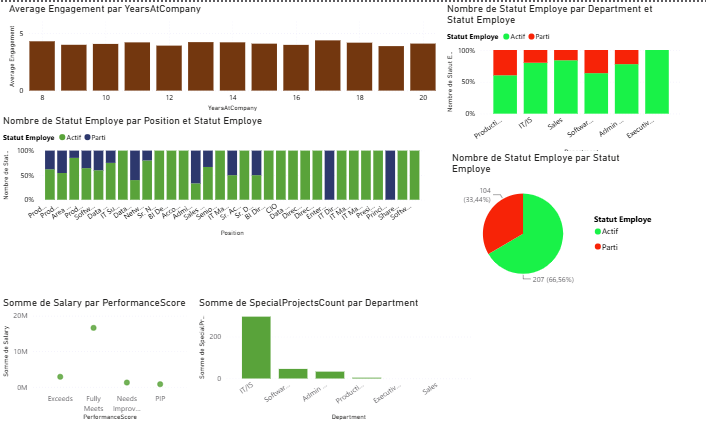

Layout of this report page (visuals, bound fields, positions):
{"tool":"powerbi","page":{"name":"Page 2","canvas":[1280,720],"ordinal":1},"visuals":[{"type":"clusteredColumnChart","fields":{"Category":["HRDataset.YearsAtCompany"],"Y":["HRDataset.Average Engagement"]},"box":[10,0,721.1,186.7],"z":0},{"type":"hundredPercentStackedColumnChart","fields":{"Category":["HRDataset.Department"],"Y":["CountNonNull(HRDataset.Statut Employe)"],"Series":["HRDataset.Statut Employe"]},"box":[740,0,401.1,261.1],"z":1000},{"type":"hundredPercentStackedColumnChart","fields":{"Category":["HRDataset.Position"],"Y":["CountNonNull(HRDataset.Statut Employe)"],"Series":["HRDataset.Statut Employe"]},"box":[0,186.7,712.2,208.9],"z":2000},{"type":"pieChart","fields":{"Category":["HRDataset.Statut Employe"],"Y":["CountNonNull(HRDataset.Statut Employe)"]},"box":[748.9,248.9,357.8,237.8],"z":3000},{"type":"scatterChart","fields":{"X":["HRDataset.PerformanceScore"],"Y":["Sum(HRDataset.Salary)"]},"box":[0,489.4,316.3,211.5],"z":4000},{"type":"clusteredColumnChart","fields":{"Category":["HRDataset.Department"],"Y":["Sum(HRDataset.SpecialProjectsCount)"]},"box":[326.9,489.4,462.5,211.5],"z":5000}]}

Visuals, with their boxes on the page's 1280x720 design canvas (x1, y1, x2, y2). These are canvas units, not pixel positions in the 706x433 screenshot, which may show the page scaled, cropped or inside an application window:
clusteredColumnChart - HRDataset.YearsAtCompany x HRDataset.Average Engagement: [10,0,731,187]
hundredPercentStackedColumnChart - HRDataset.Department x CountNonNull(HRDataset.Statut Employe): [740,0,1141,261]
hundredPercentStackedColumnChart - HRDataset.Position x CountNonNull(HRDataset.Statut Employe): [0,187,712,396]
pieChart - HRDataset.Statut Employe x CountNonNull(HRDataset.Statut Employe): [749,249,1107,487]
scatterChart - HRDataset.PerformanceScore x Sum(HRDataset.Salary): [0,489,316,701]
clusteredColumnChart - HRDataset.Department x Sum(HRDataset.SpecialProjectsCount): [327,489,789,701]
